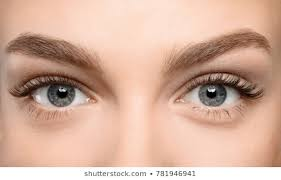pupil: (47, 82, 75, 107), (198, 83, 226, 106)
